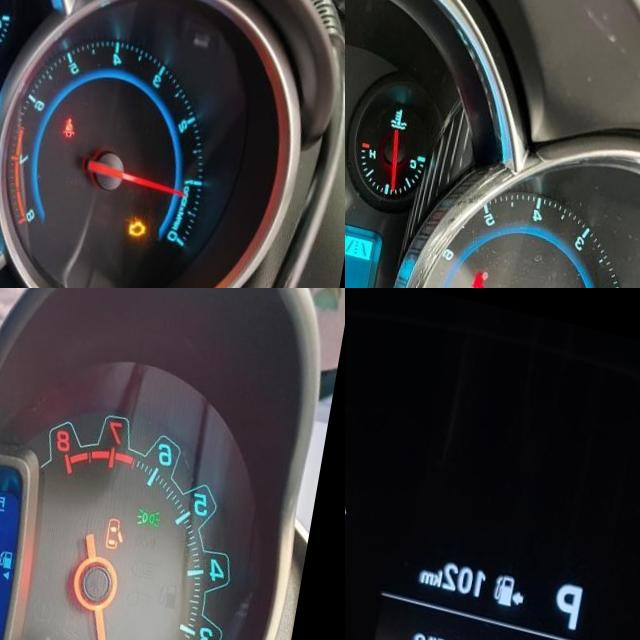Doors: (115, 494, 138, 529)
SideLamp: (146, 482, 173, 507)
